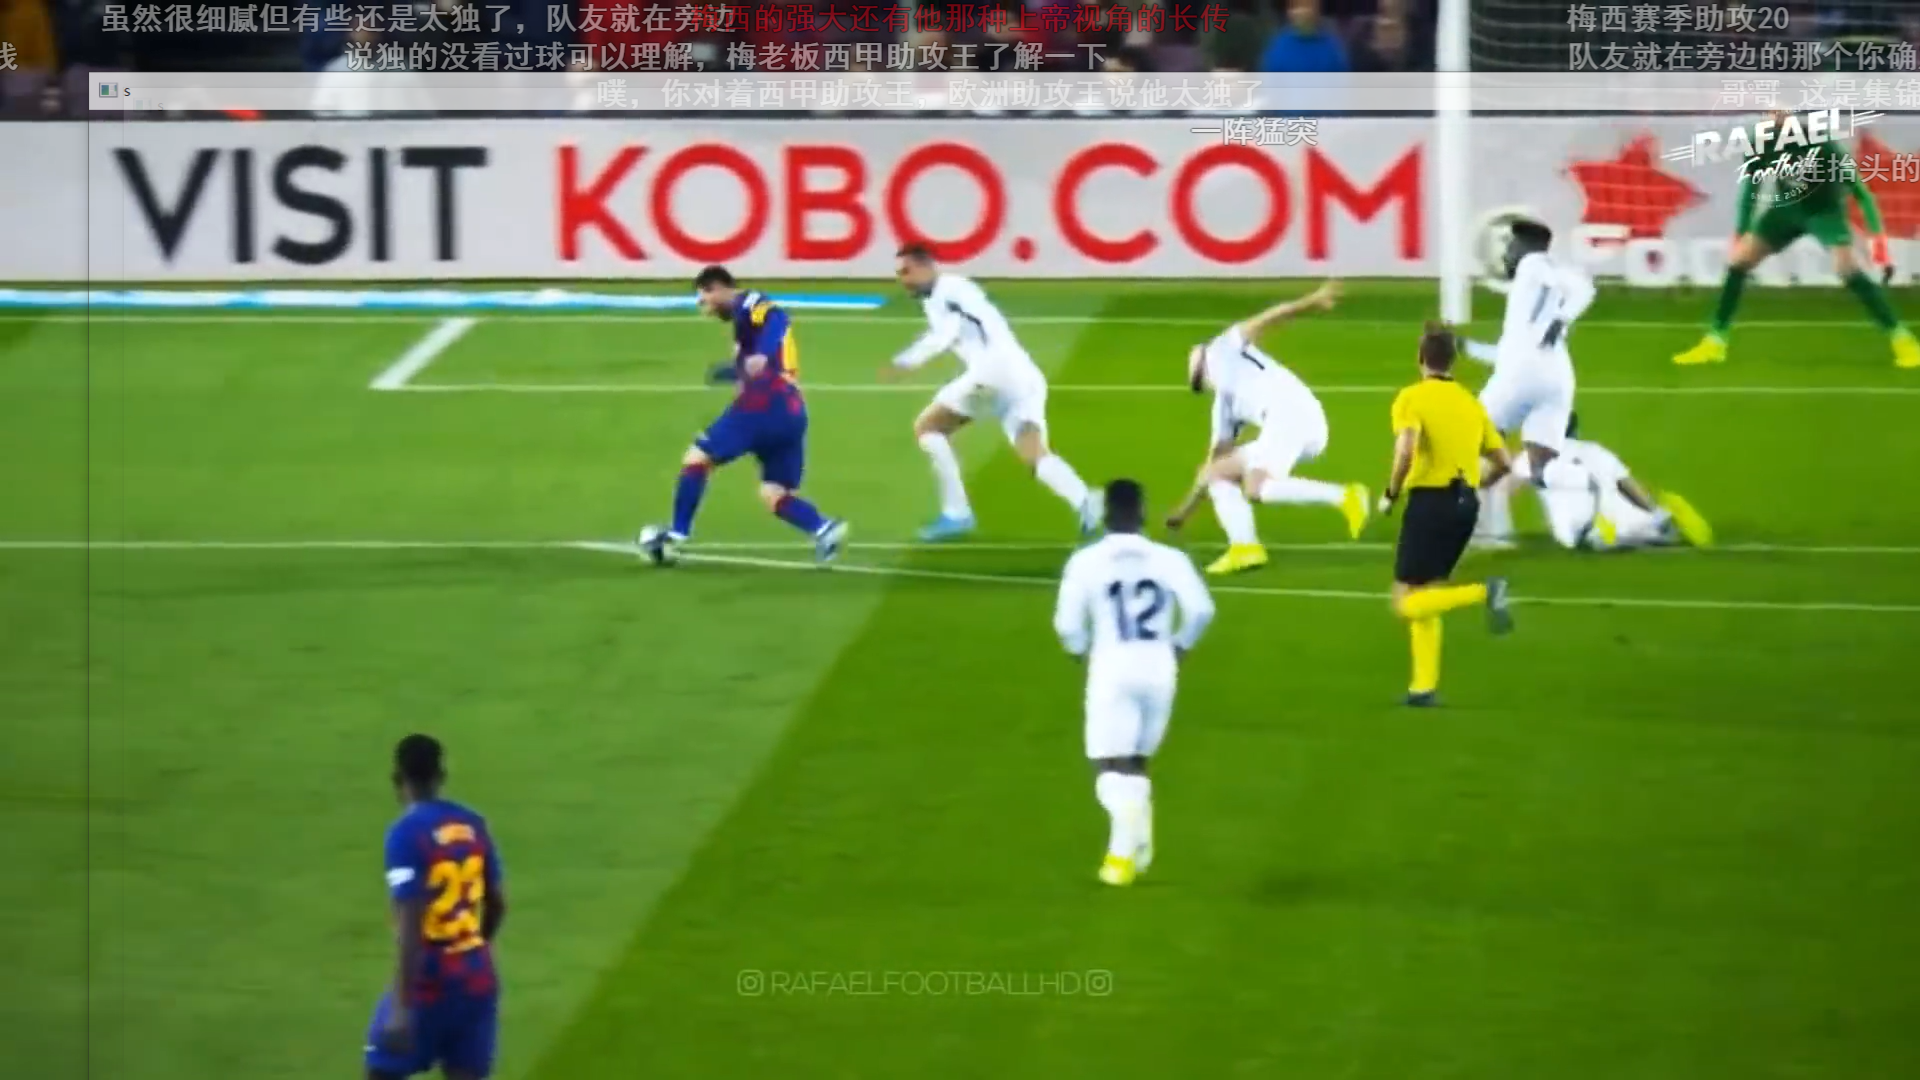ft: (632, 520, 682, 570)
